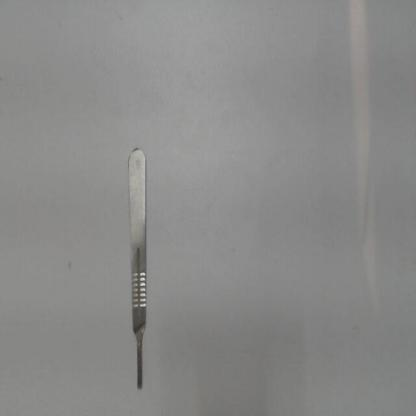No.4 BP Handle: (118, 142, 150, 402)
